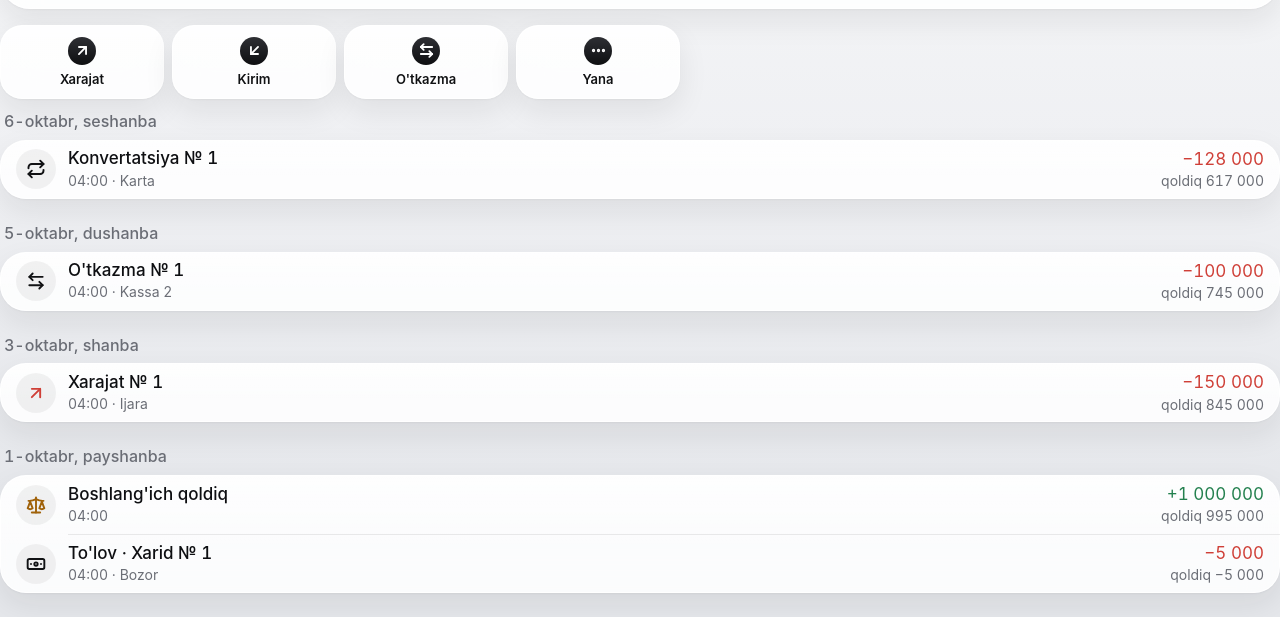
a cash document's sheet: the opening balance is edited and deleted there, the others deleted (they are edited on their lists)
(page scrolled)
Click the button "Boshlang'ich qoldiq 04:00 +1 000 000 qoldiq 995 000" at (36, 505), box [0,475,1279,534]
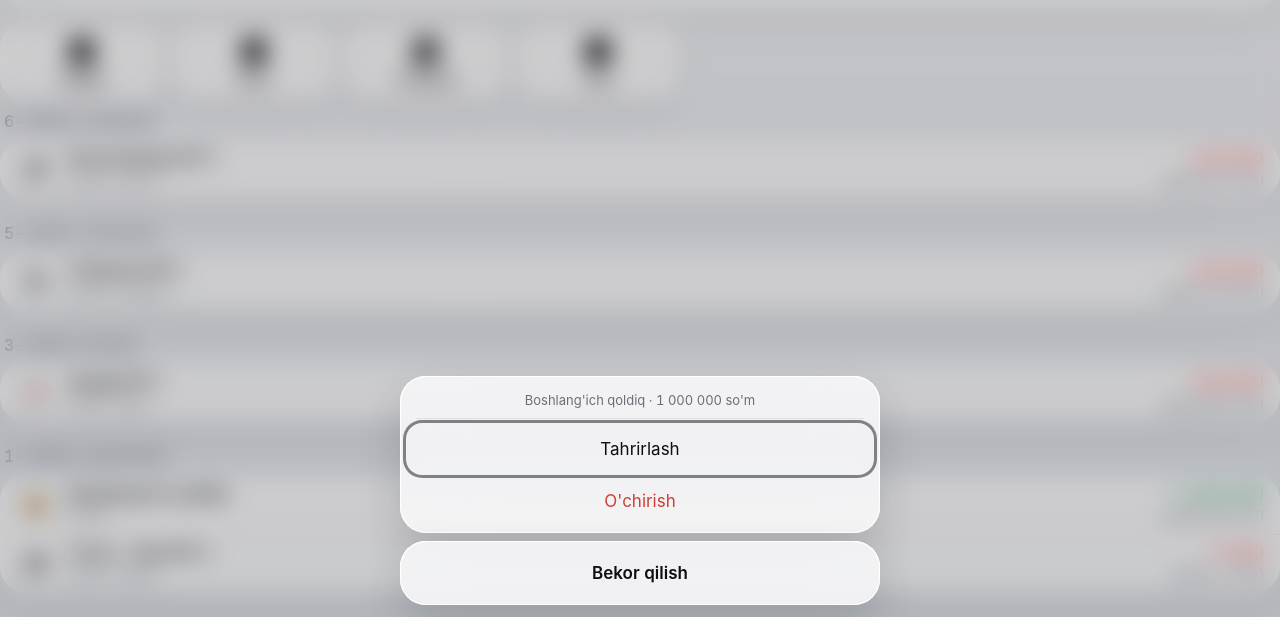
Expected: the menu shows "Boshlang'ich qoldiq · 1 000 000 so'm", [525,392,755,408]
Expected: the menu items read "Tahrirlash", "O'chirish", in this order
Click the menu item "Tahrirlash" at (640, 449), box [406,423,874,475]
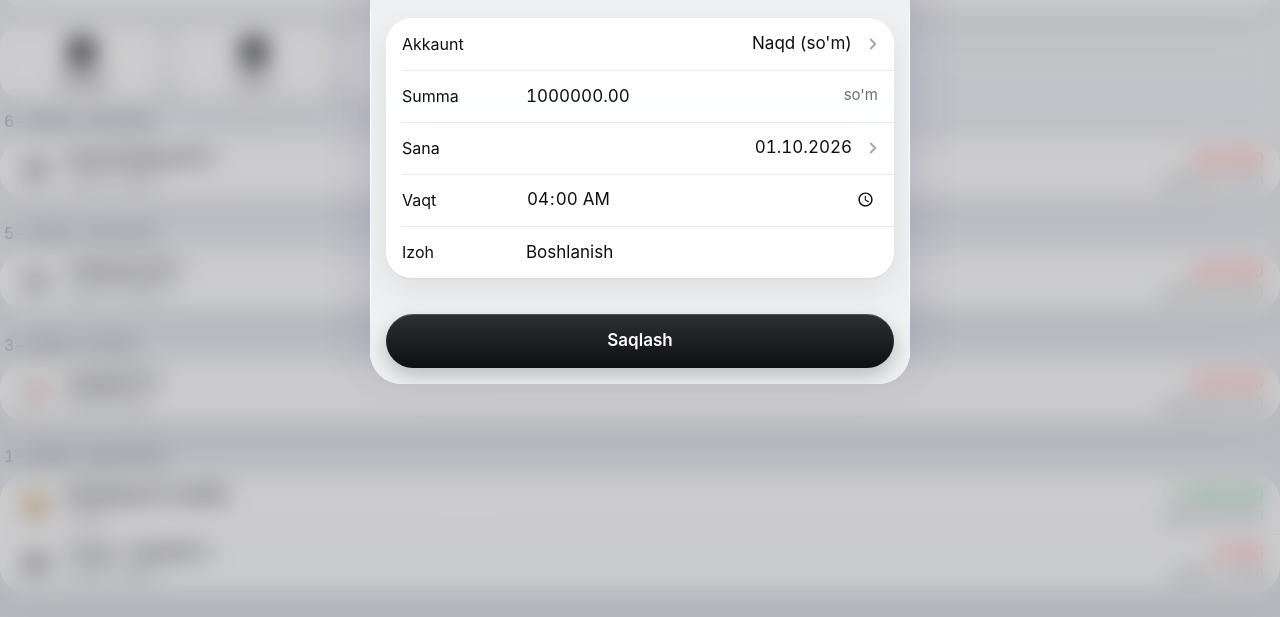
Expected: the field labelled "Summa" holds "1000000.00", [526,74,832,118]
Press Escape
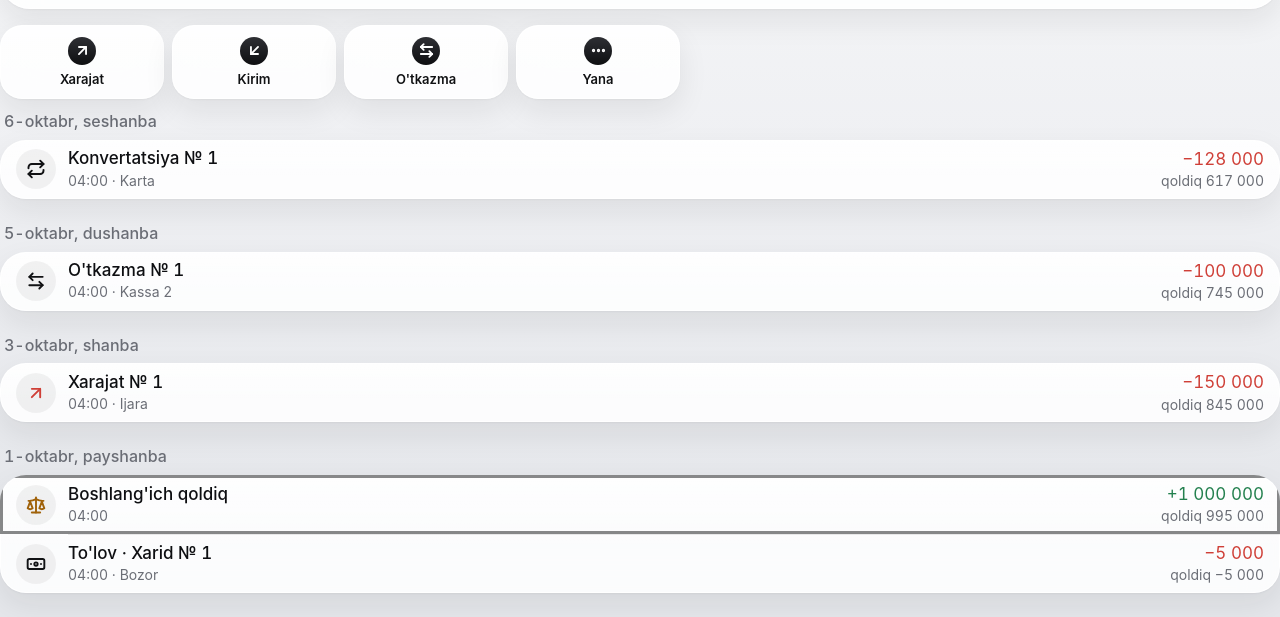
Click the button "Xarajat № 1 04:00 · Ijara −150 000 qoldiq 845 000" at (36, 393), box [0,363,1279,422]
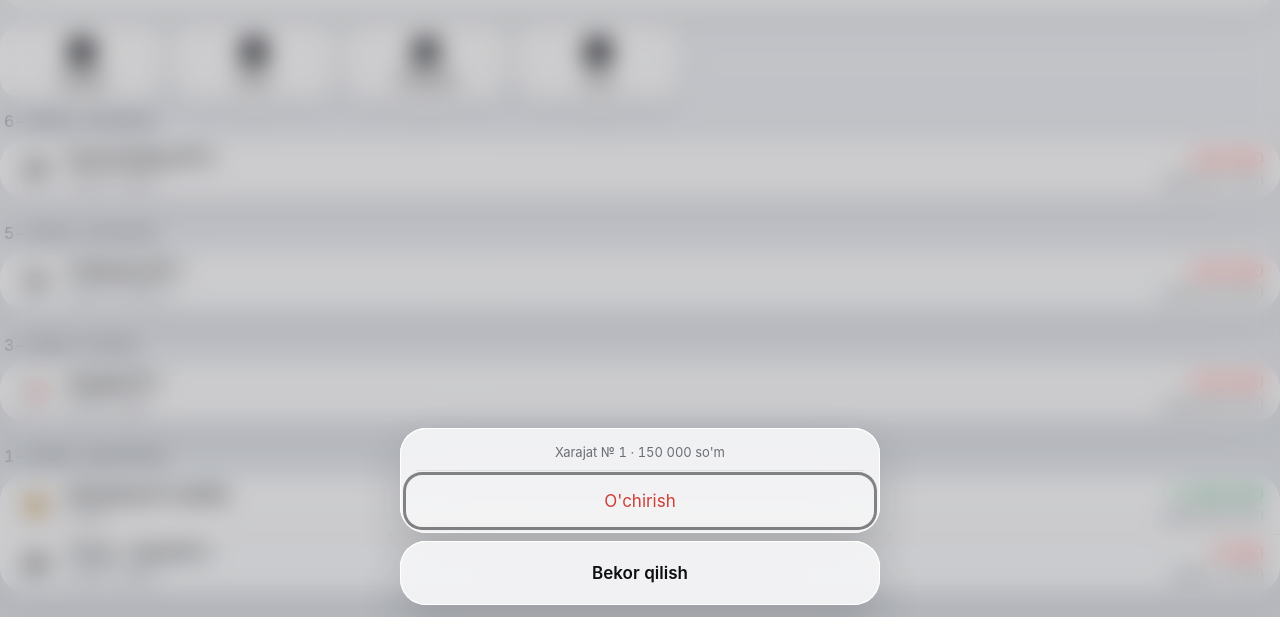
Expected: the menu items read "O'chirish", in this order
Click the menu item "O'chirish" at (640, 501), box [406,475,874,527]
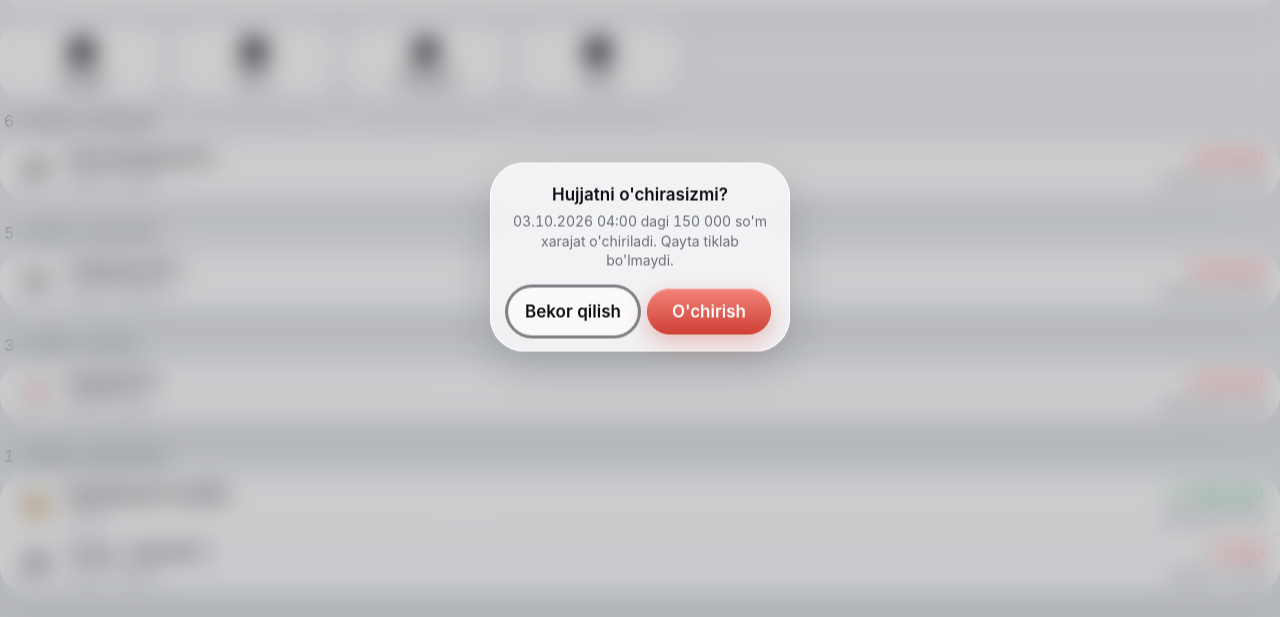
Expected: the dialog "Hujjatni o'chirasizmi?" is shown, [490,162,790,352]
